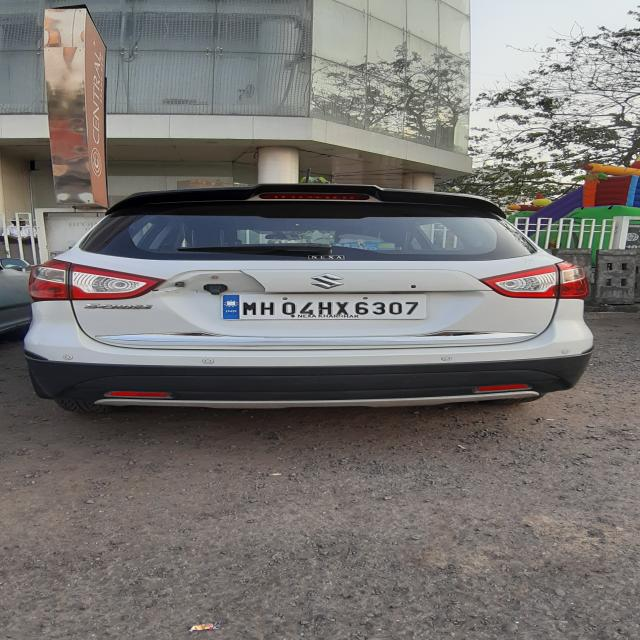Number-Plate: (223, 294, 424, 317)
